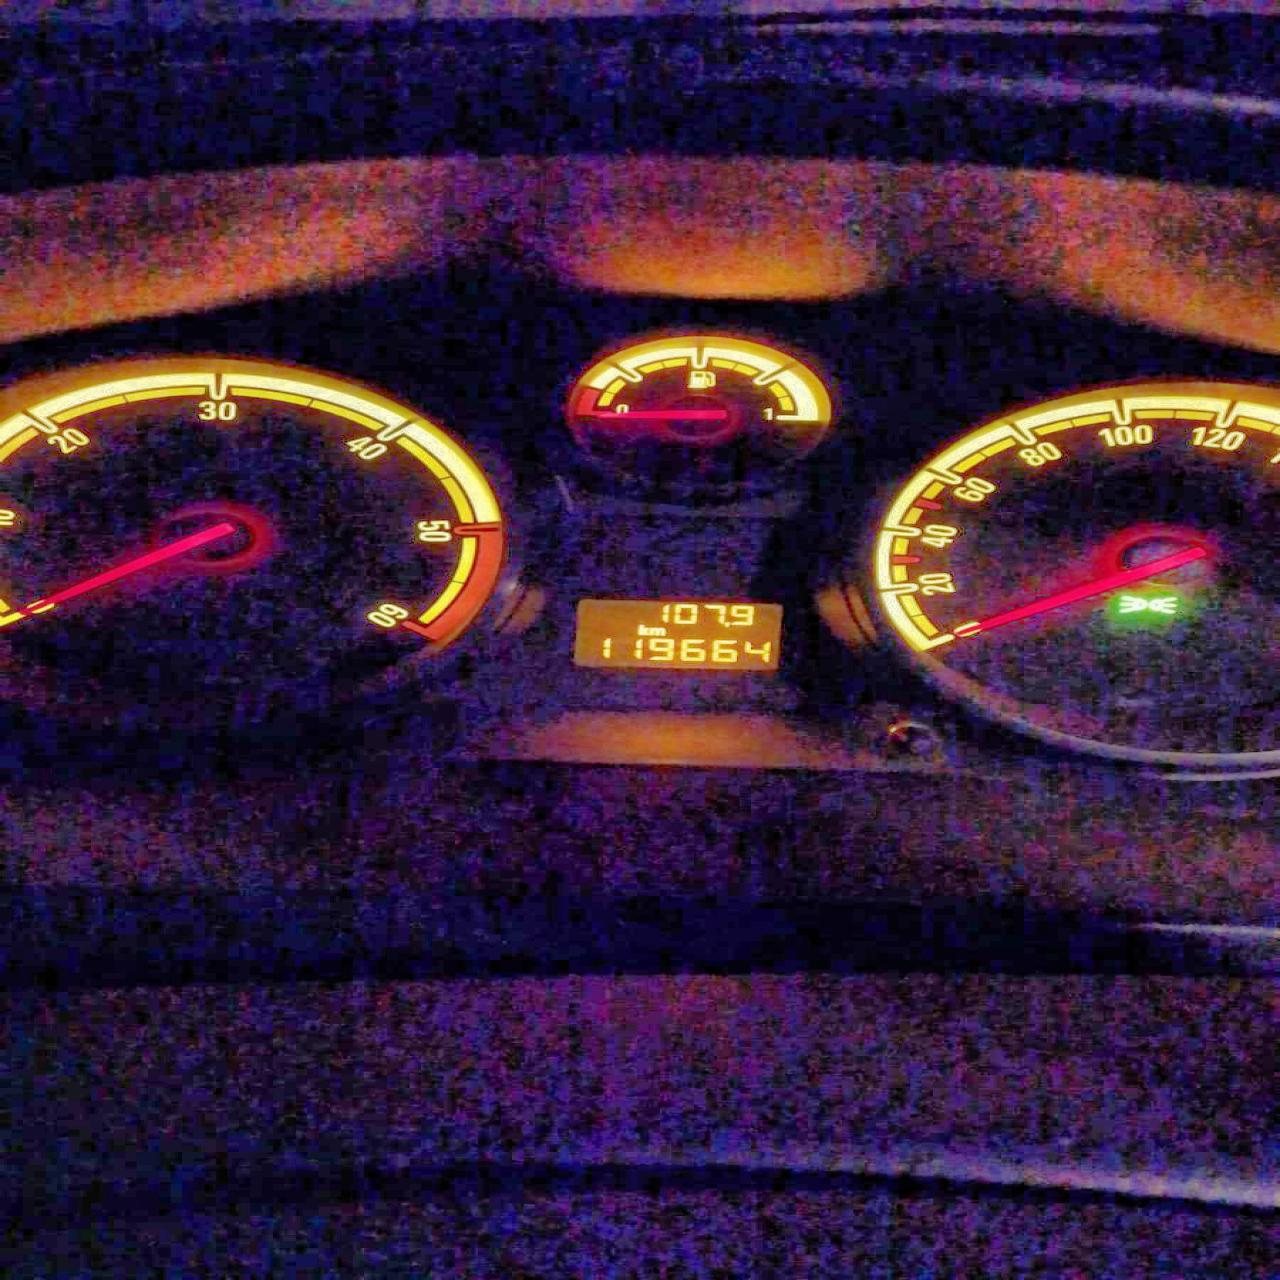-: (722, 621, 729, 627)
0: (673, 602, 697, 624)
1: (601, 636, 612, 659), (633, 638, 644, 659), (660, 604, 668, 622)
4: (742, 640, 771, 662)
6: (679, 638, 706, 661), (710, 640, 738, 662)
7: (702, 604, 726, 624)
9: (647, 638, 673, 660), (729, 605, 754, 626)
X: (647, 626, 663, 635), (635, 622, 647, 635)
odometer: (570, 598, 784, 672)
